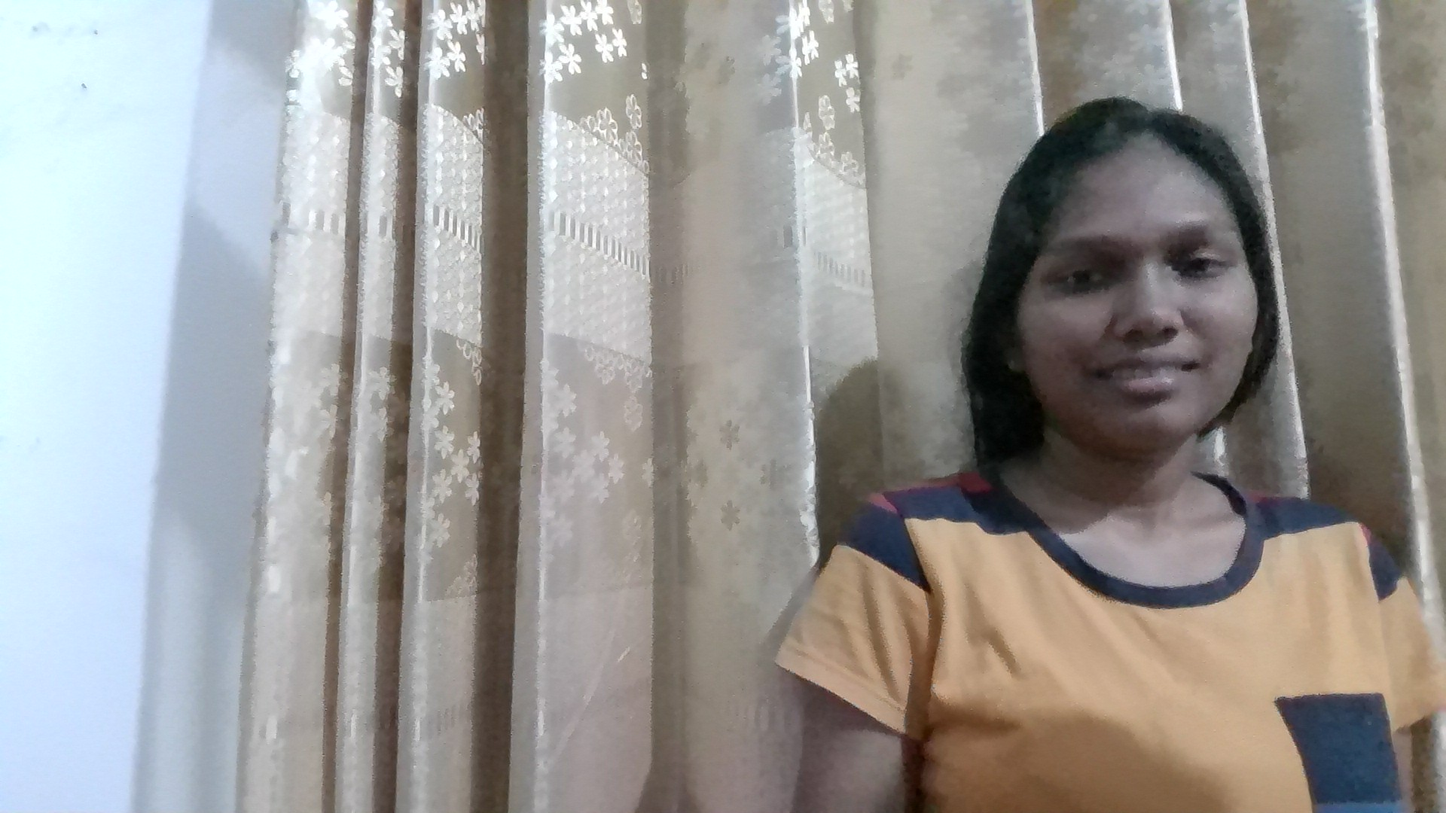not a gesture sign: (314, 6, 808, 813)
